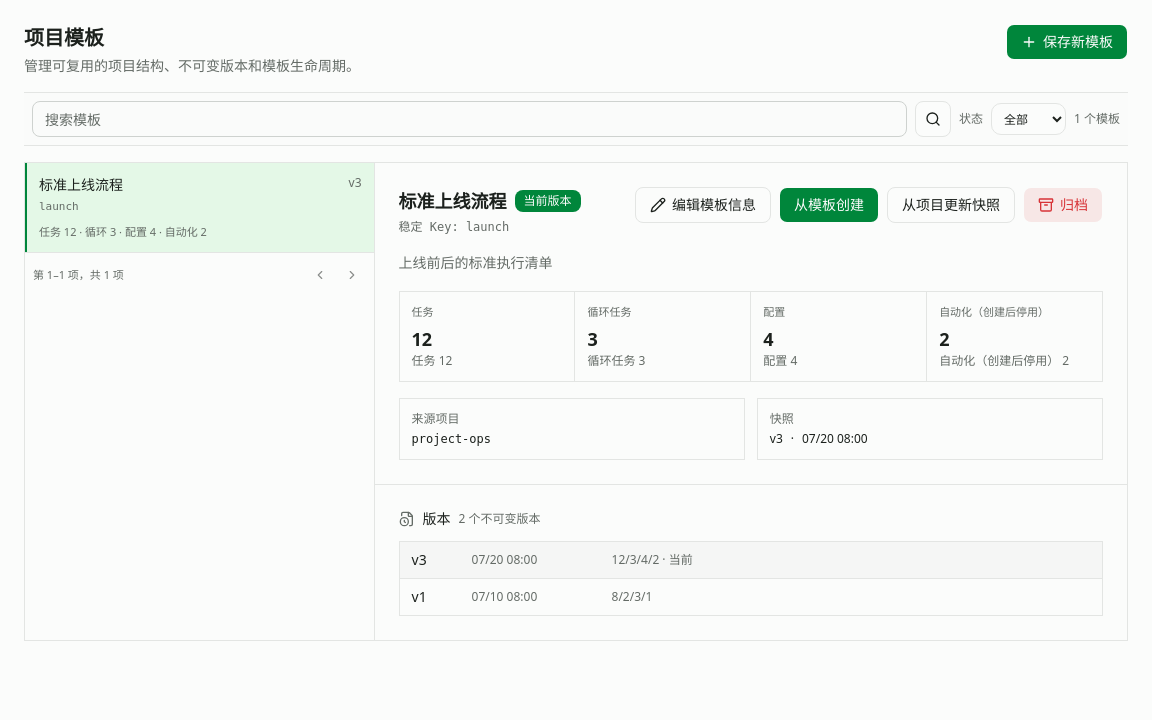
Test: ProjectTemplateLibraryPage › switches to a historical version and keeps it read-only but instantiable
The image size is (1152, 720).
Click the button "v1 07/10 08:00 8/2/3/1" at (504, 596), box [400,578,1102,614]
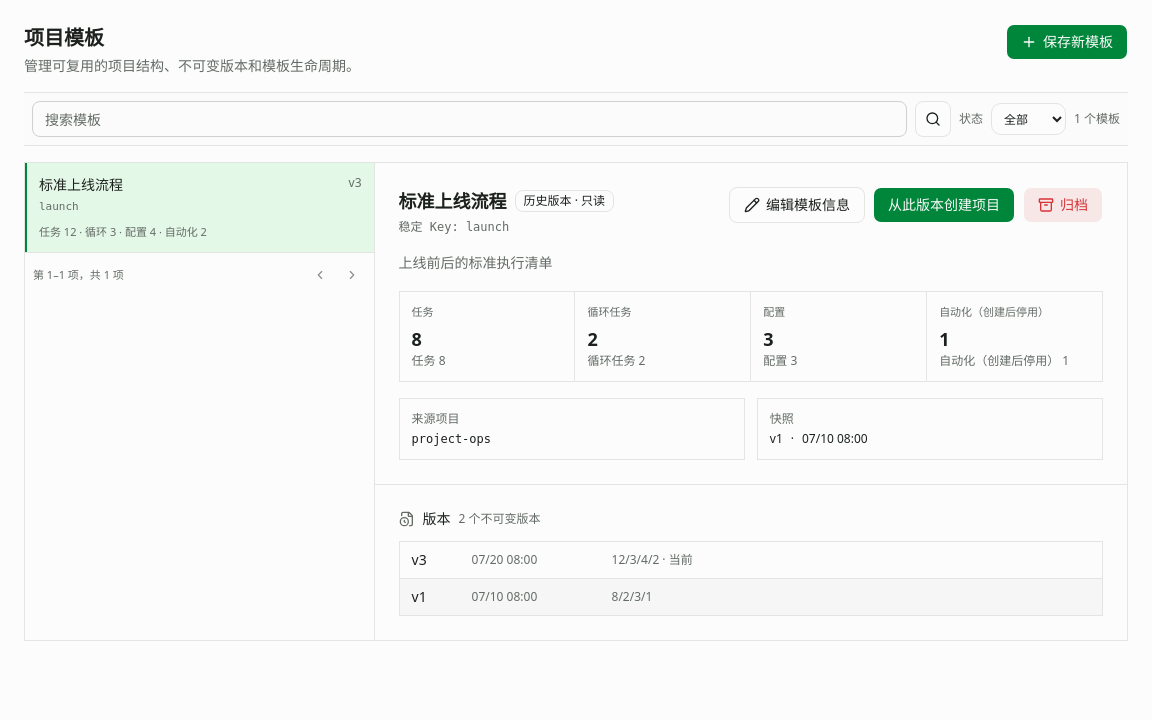
expect the text "历史版本 · 只读" is shown: met, box [514,190,614,212]
expect the button "从此版本创建项目" is shown: met, box [873,187,1015,223]
expect the button "从项目更新快照" is gone: met
